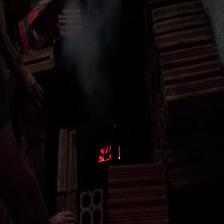fire: (96, 144, 123, 163)
smoke: (71, 21, 110, 104)
